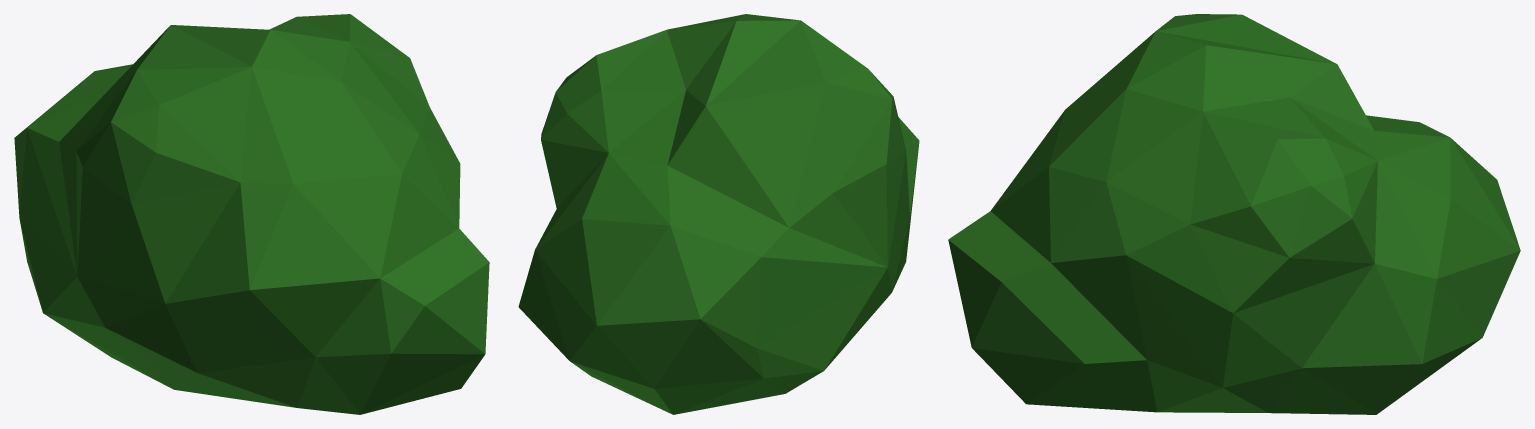
Rendered from mdl_poland_bush.gltf.
The picture shows the model from 3 angles, left to right: view 1: azimuth 30°, elevation 25°; view 2: azimuth 150°, elevation 25°; view 3: azimuth 270°, elevation 25°; orthographic projection. The views are drawn at different scales.
Visible parts, largest first — view 1: Icosphere.001; view 2: Icosphere.001; view 3: Icosphere.001.
Part boxes in pixels (x1=…): Icosphere.001: x1=14, y1=14, x2=489, y2=414; Icosphere.001: x1=518, y1=14, x2=919, y2=414; Icosphere.001: x1=948, y1=14, x2=1520, y2=414.
Bounding box in the file's own units: 0.6347 × 0.6191 × 0.8961.
1 material, 1 textured.
